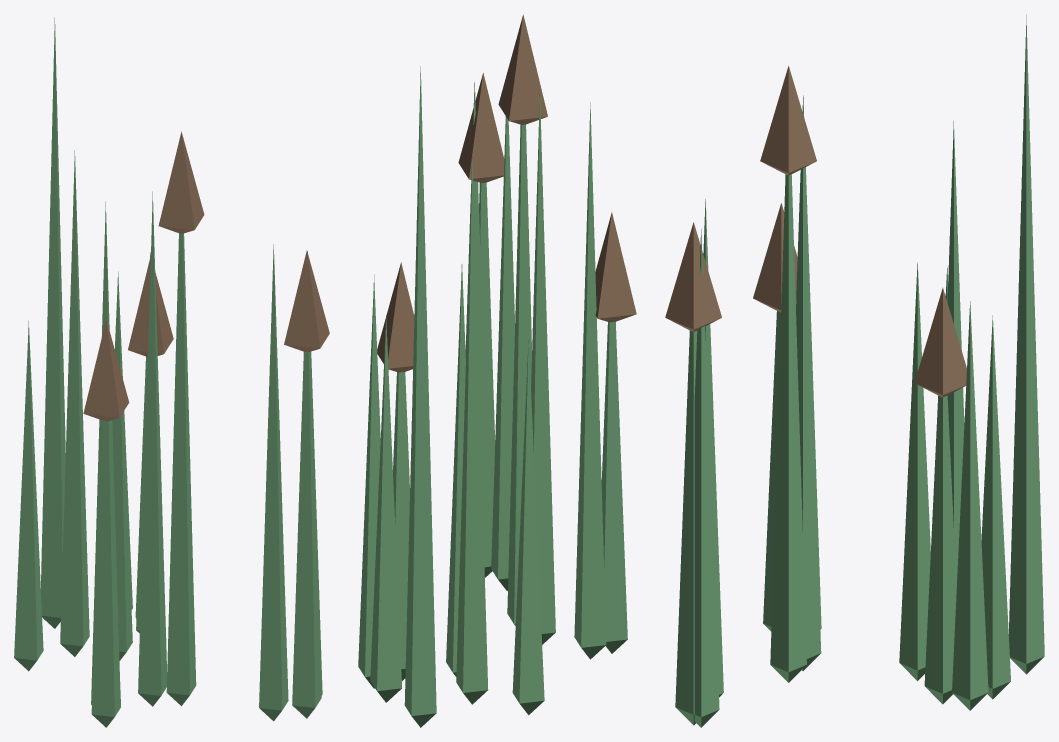
Rendered from reed-clump.glb.
3 renders of one model, left to right at view 1: azimuth 30°, elevation 25°; view 2: azimuth 150°, elevation 25°; view 3: azimuth 270°, elevation 25°, orthographic. The views are drawn at different scales.
Visible parts, largest first — view 1: reed-clump; view 2: reed-clump; view 3: reed-clump.
Boxes of the visible parts, left/top/right/bottom form: reed-clump: left=14, top=17, right=329, bottom=727; reed-clump: left=358, top=14, right=636, bottom=727; reed-clump: left=665, top=14, right=1044, bottom=727.
Bounding box in the file's own units: 0.6267 × 1.79 × 0.9326.
